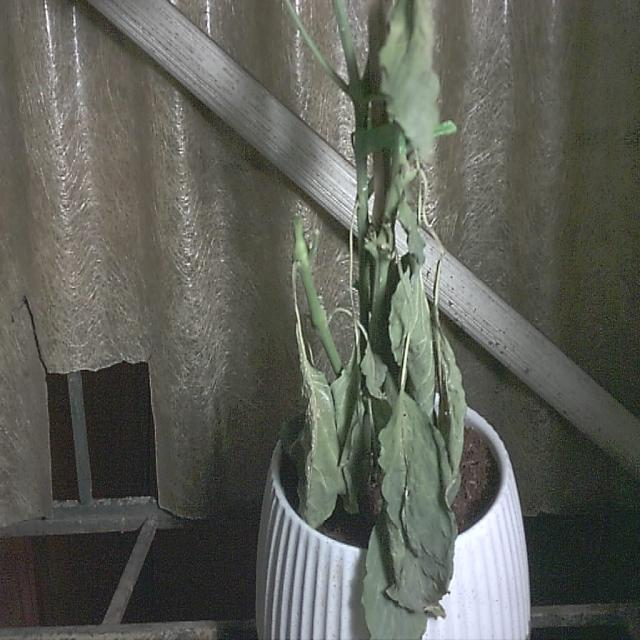Leaf: (379, 391, 453, 620), (292, 364, 340, 528)
